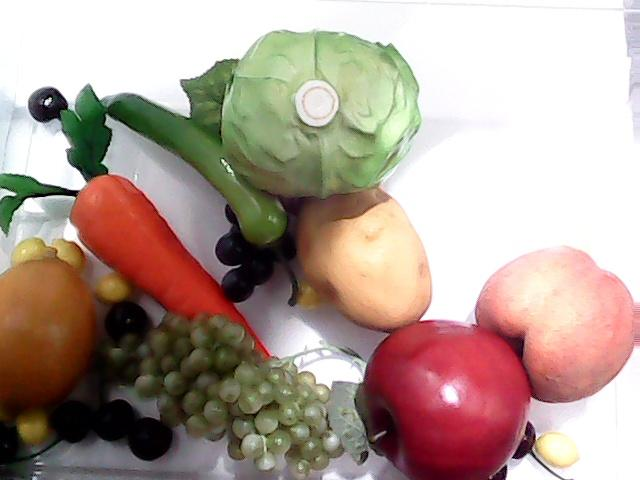apple: (360, 316, 536, 480)
cabbage: (216, 23, 426, 196)
carrot: (2, 81, 270, 357)
grape: (128, 306, 344, 474)
lemon: (0, 245, 96, 406)
peach: (474, 249, 640, 407)
pepper: (80, 78, 292, 250)
potato: (294, 185, 434, 334)
